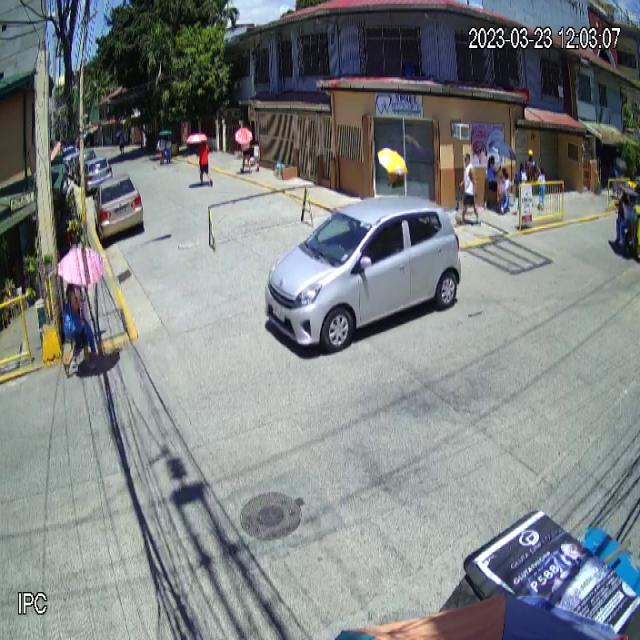Car: (265, 195, 461, 358), (92, 173, 144, 244)
